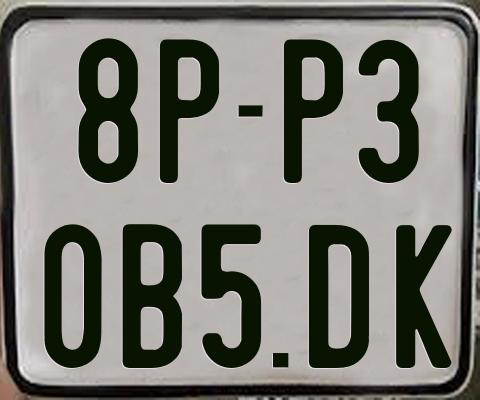0: (42, 224, 105, 371)
3: (358, 40, 419, 187)
5: (201, 223, 267, 368)
8: (77, 35, 139, 185)
B: (122, 224, 183, 374)
D: (309, 222, 373, 367)
K: (393, 225, 449, 370)
P: (157, 37, 218, 187), (281, 37, 340, 185)
